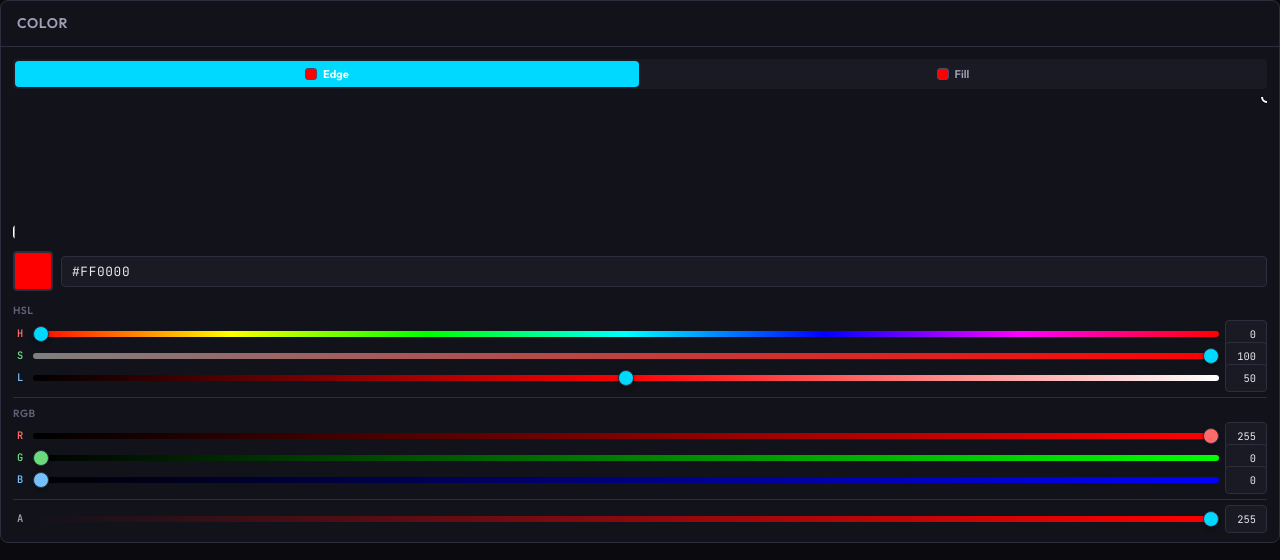
Test: ColorPicker — the hex field commits on blur › ⭐ REVERTS a partial draft on blur rather than writing garbage
The width and height of the screenshot is (1280, 560).
Step 1. Replace the text in the field with class "color-picker__hex-input" with "#ab" → (664, 271), box [61,256,1267,286]
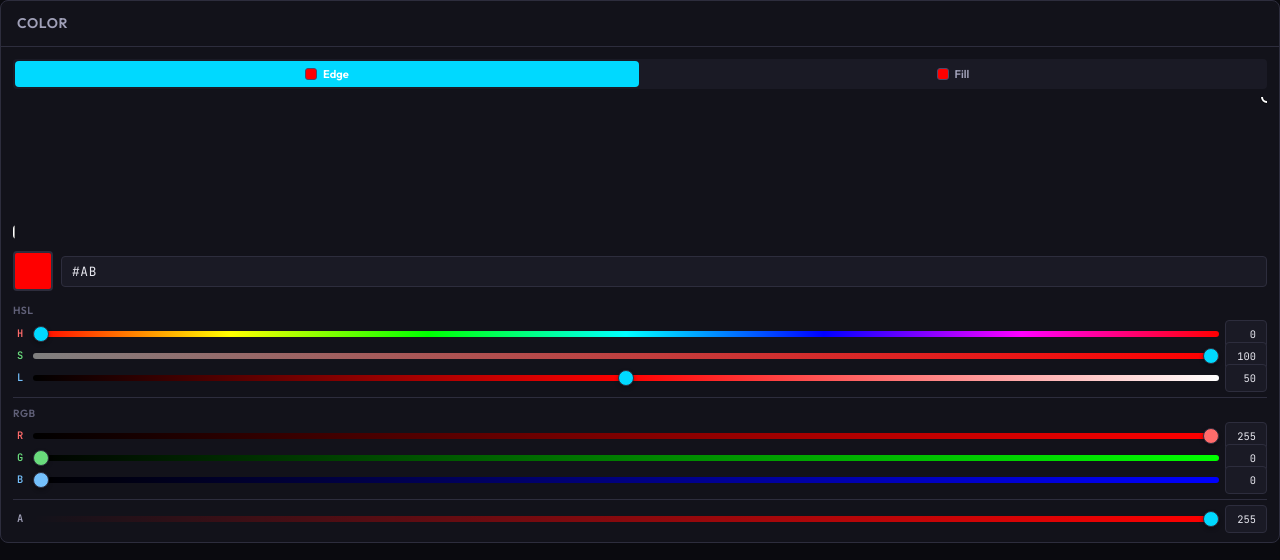
Step 2. Leave the field with class "color-picker__hex-input", box [61,256,1267,286]
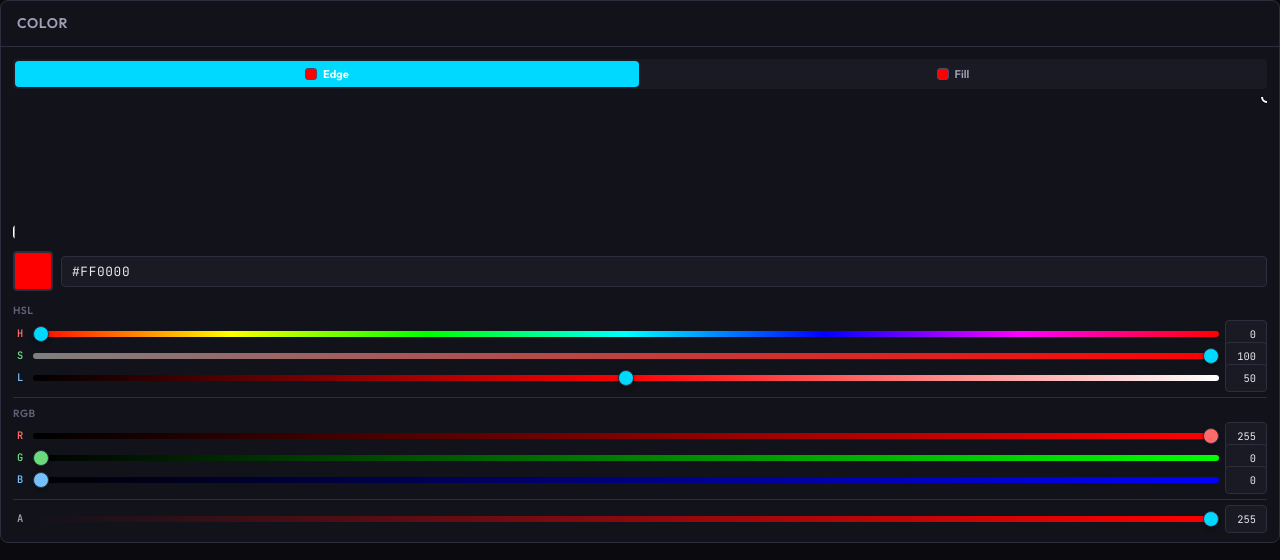
Expected: the field with class "color-picker__hex-input" holds "#ff0000", [61,256,1267,286]
